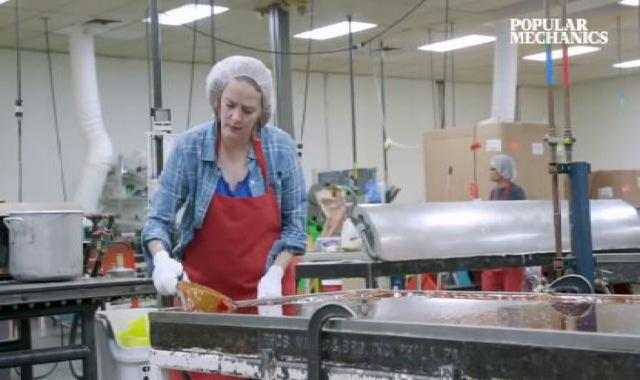hairnet: (198, 55, 276, 138)
